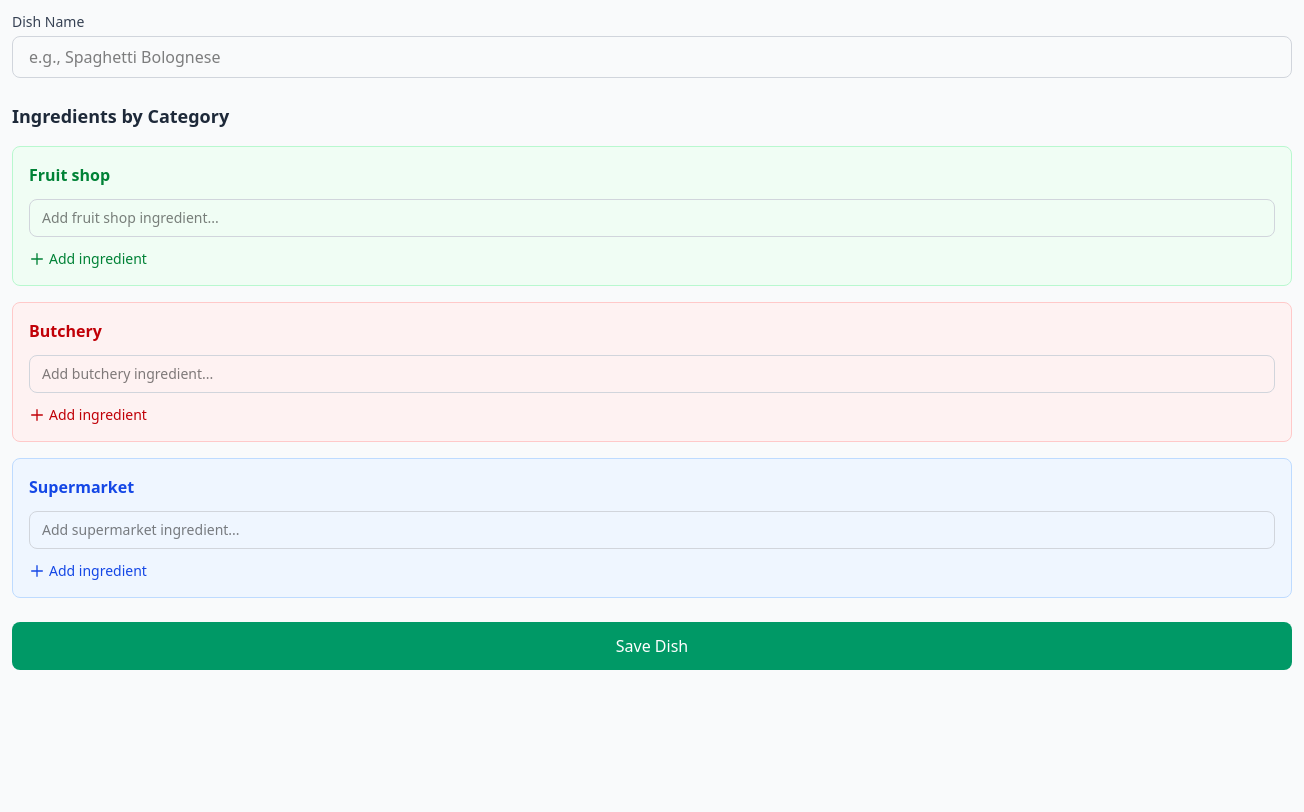
Scenario: CreateDishForm › validation › shows error when submitting with no ingredients
The image size is (1304, 812).
Type "My Dish" into the field labelled "Dish Name" at (652, 57), box [12,36,1292,78]
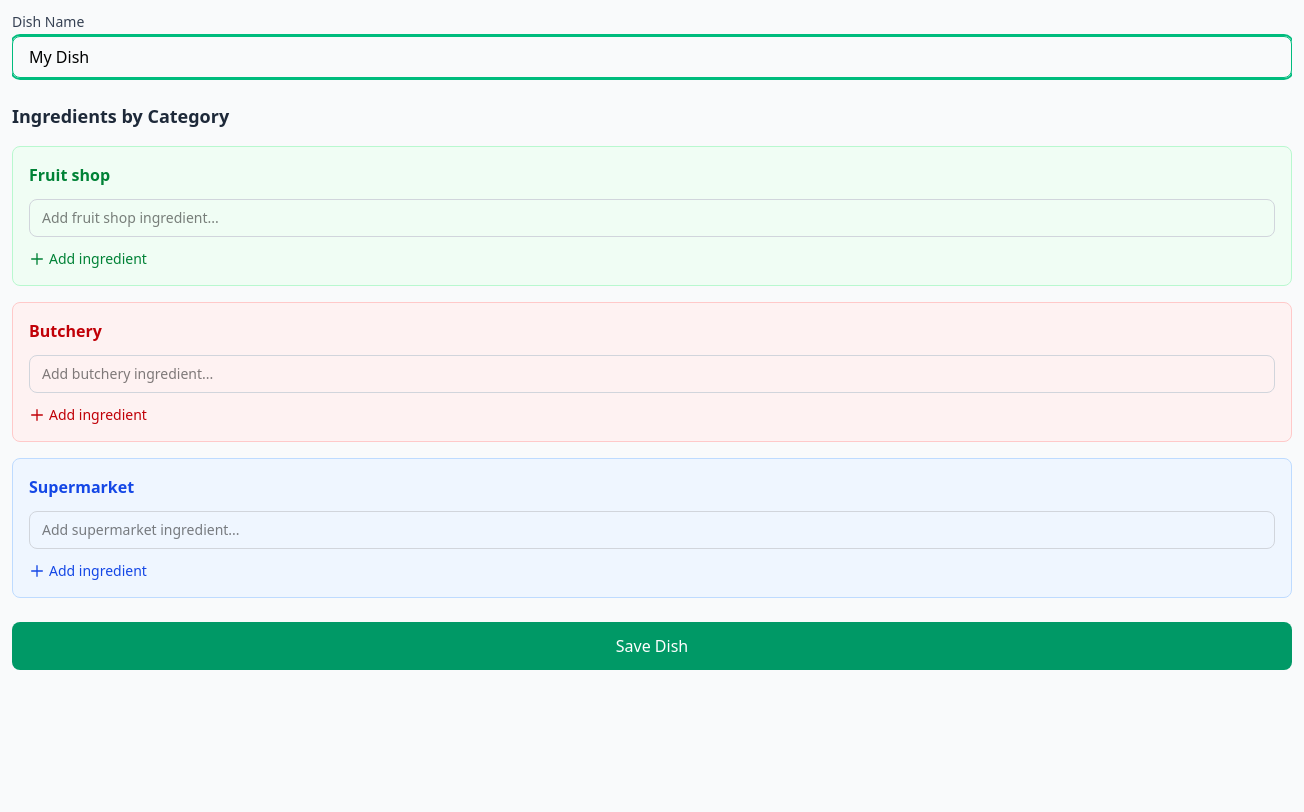
Click the button "Save Dish" at (652, 646), box [12,622,1292,670]
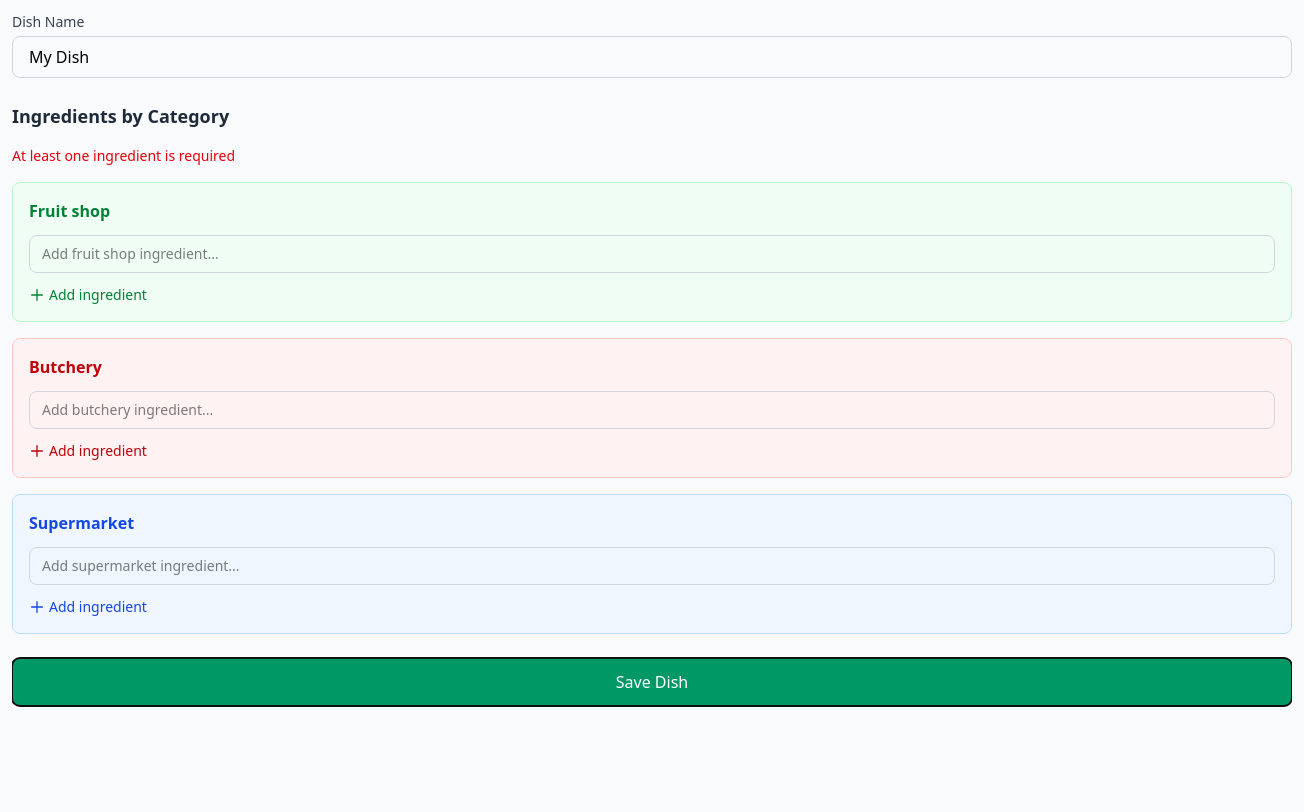
Result: the text "At least one ingredient is required" is shown at [12,146,235,165]
